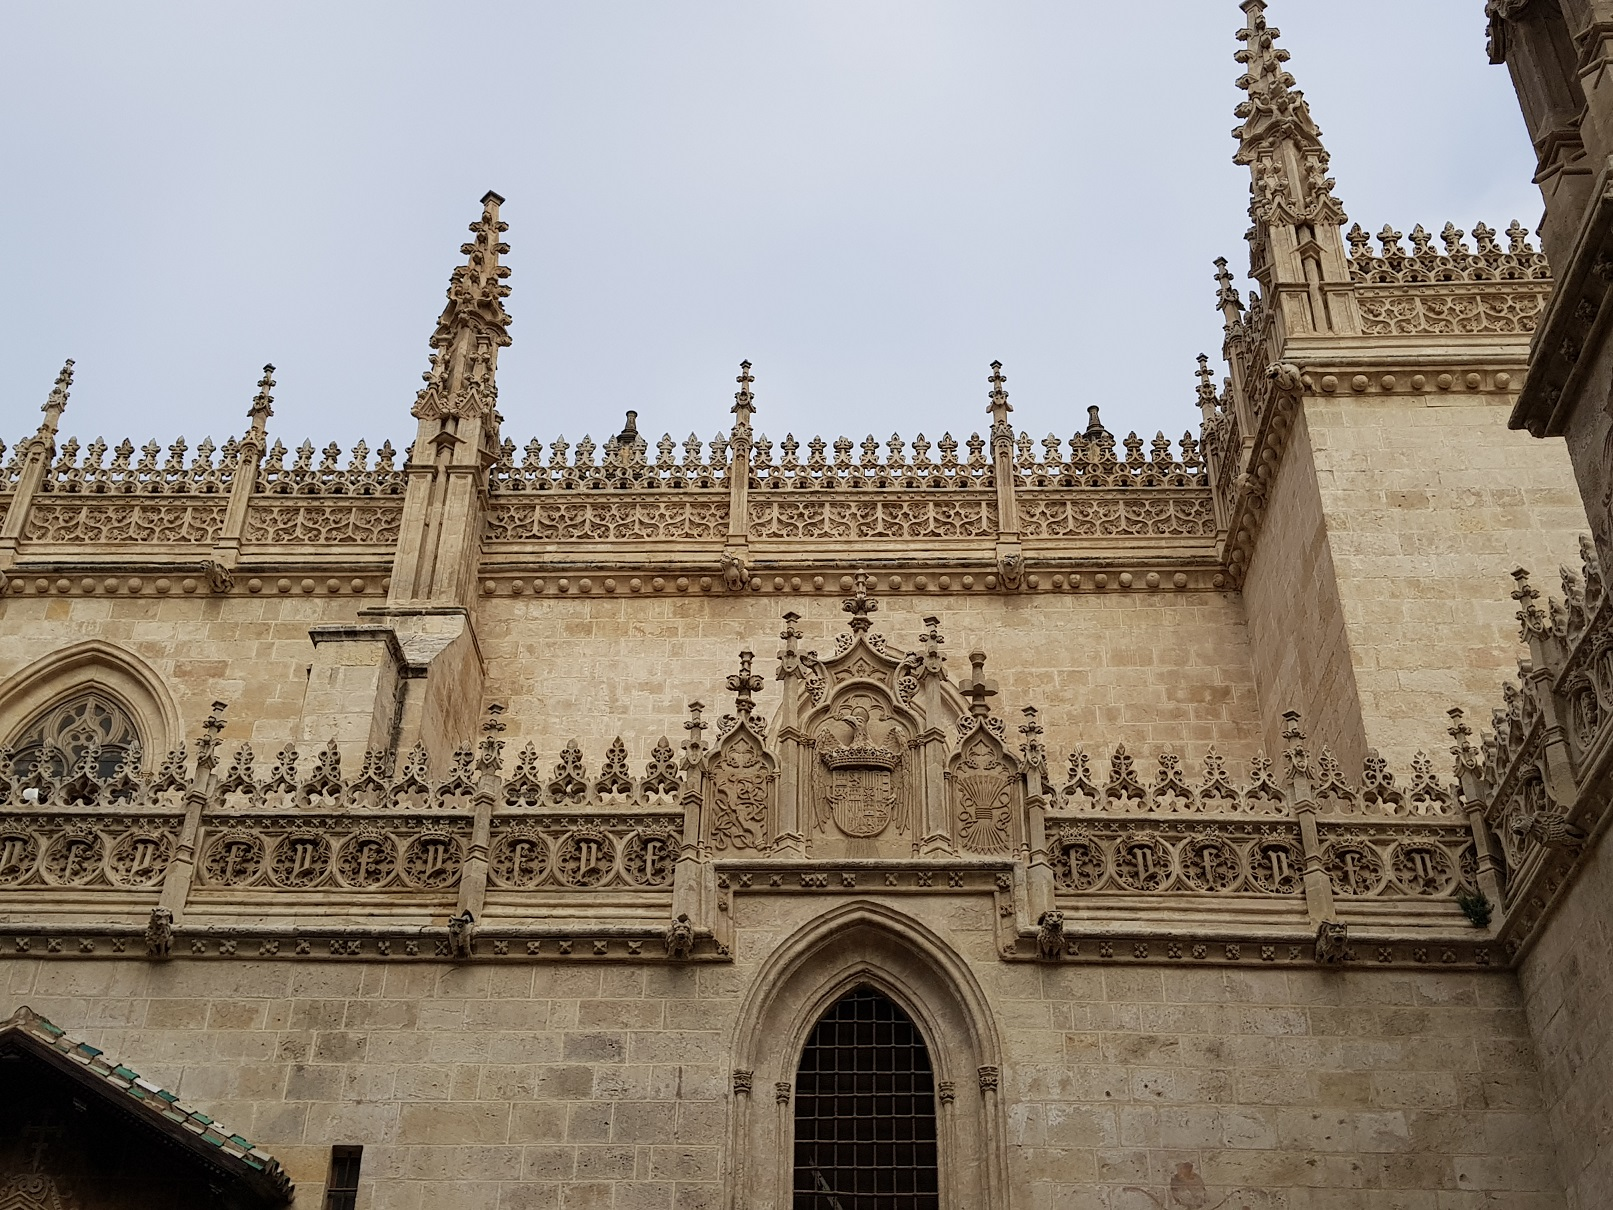arco-apuntado: (722, 891, 1016, 1152), (1, 629, 182, 774)
pinaculo-gotico: (1223, 1, 1358, 255), (412, 175, 522, 433)
